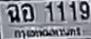1: (68, 1, 76, 20), (45, 1, 52, 21), (57, 1, 64, 20)
9: (79, 0, 90, 20)
A09: (6, 3, 21, 24)
A43: (21, 3, 35, 23)
